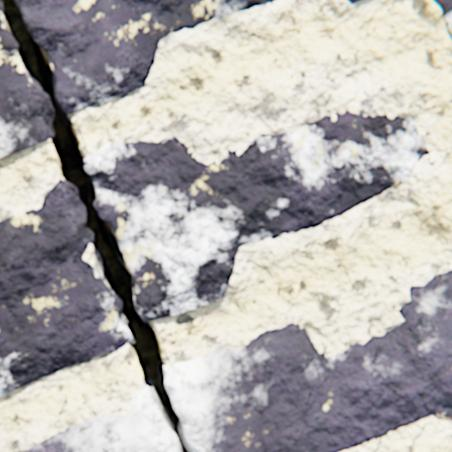brick: (435, 0, 451, 36)
broken_brick: (85, 110, 427, 320), (164, 270, 451, 451), (16, 0, 279, 114), (0, 180, 131, 396), (18, 386, 176, 451), (0, 4, 50, 159), (346, 0, 361, 4)
crack: (0, 0, 192, 451)
